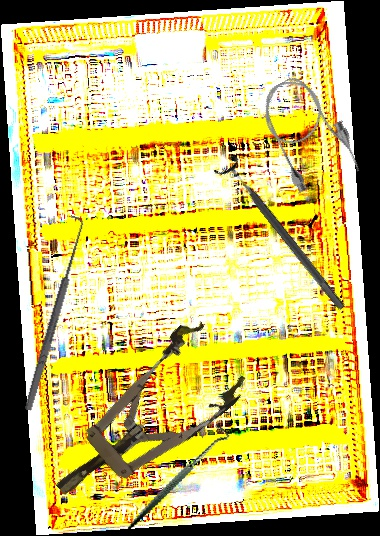Cannula: (250, 65, 366, 201)
Fixation Ring: (212, 153, 354, 318)
Hook Surgical: (105, 421, 248, 530), (15, 215, 90, 412)
Speculum: (28, 313, 256, 526)
